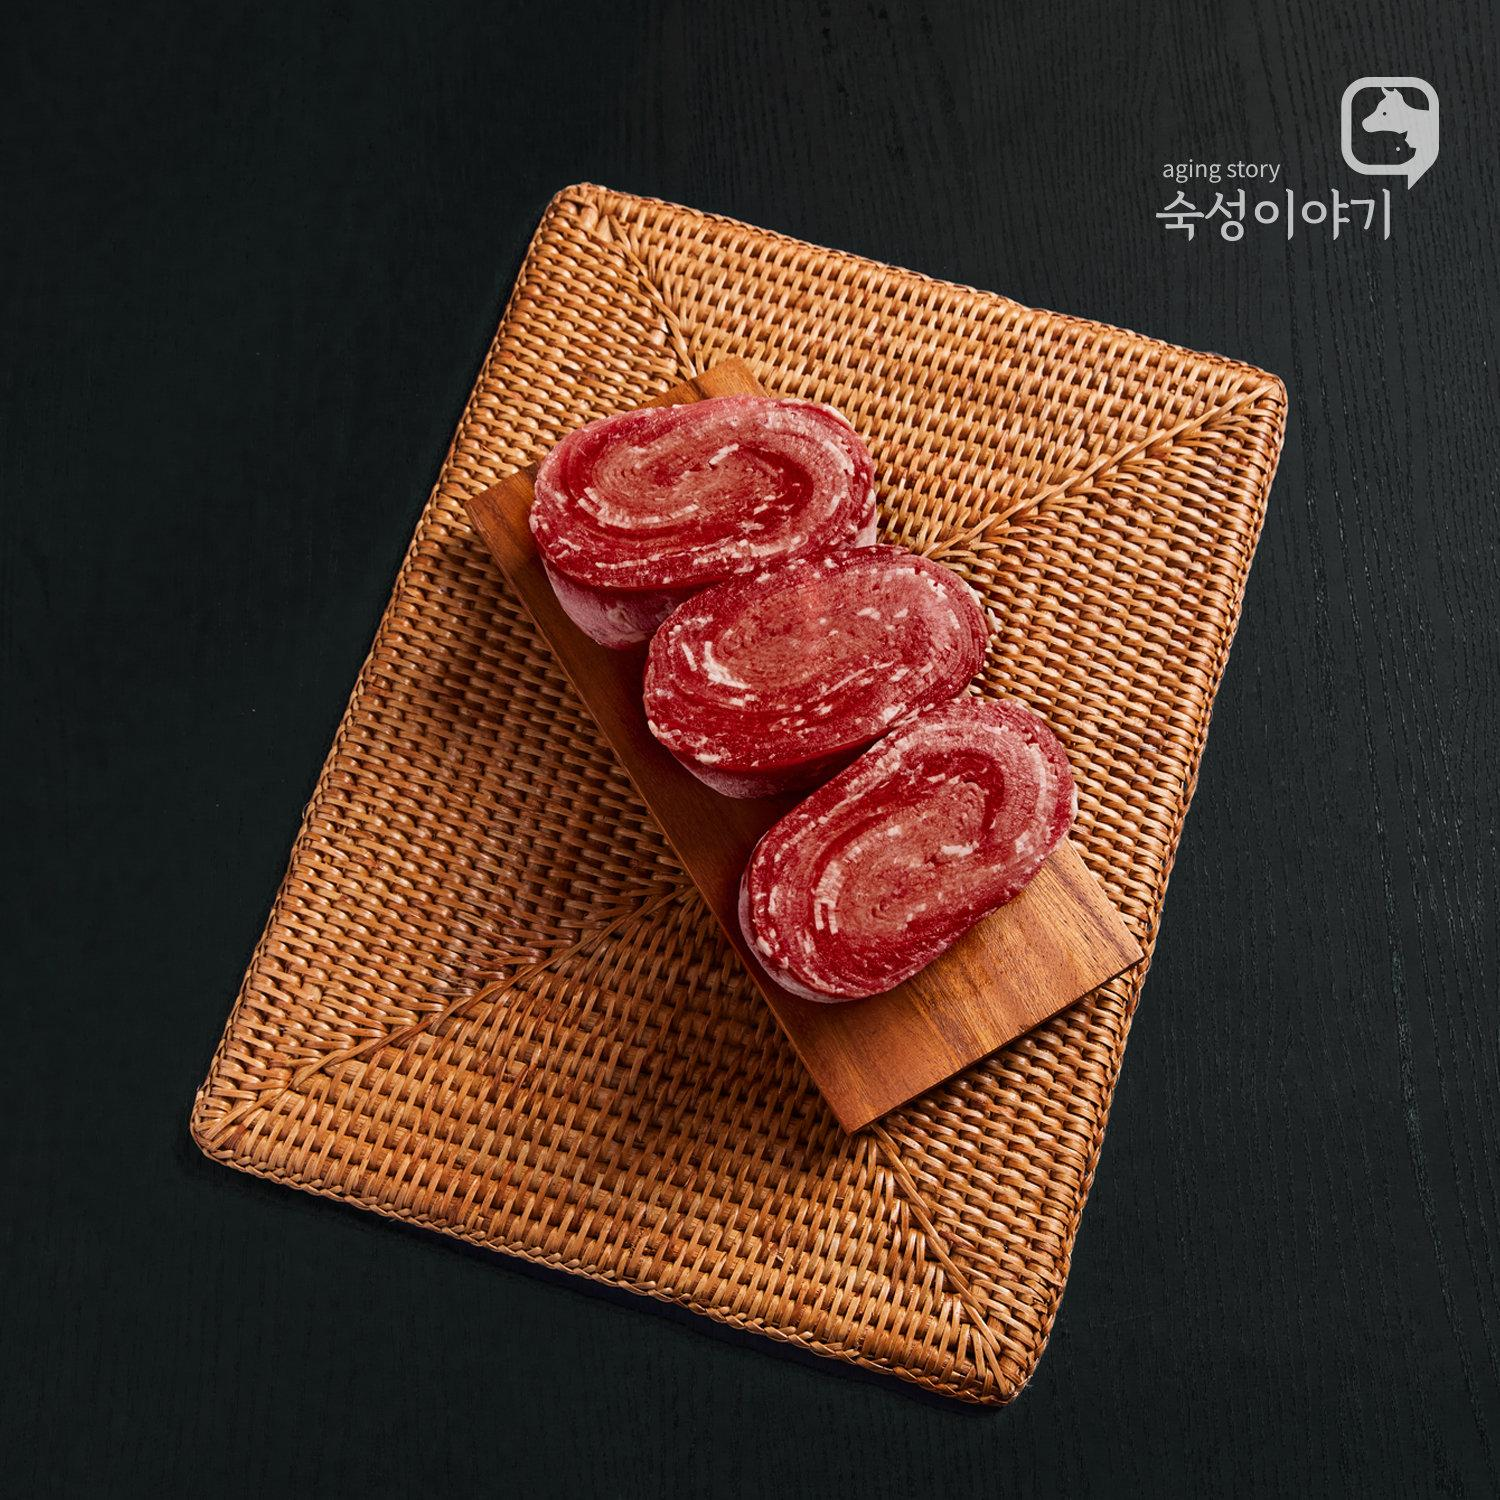beef: (1135, 962, 1500, 1404), (1133, 1177, 1500, 1500), (1098, 1320, 1500, 1500)
